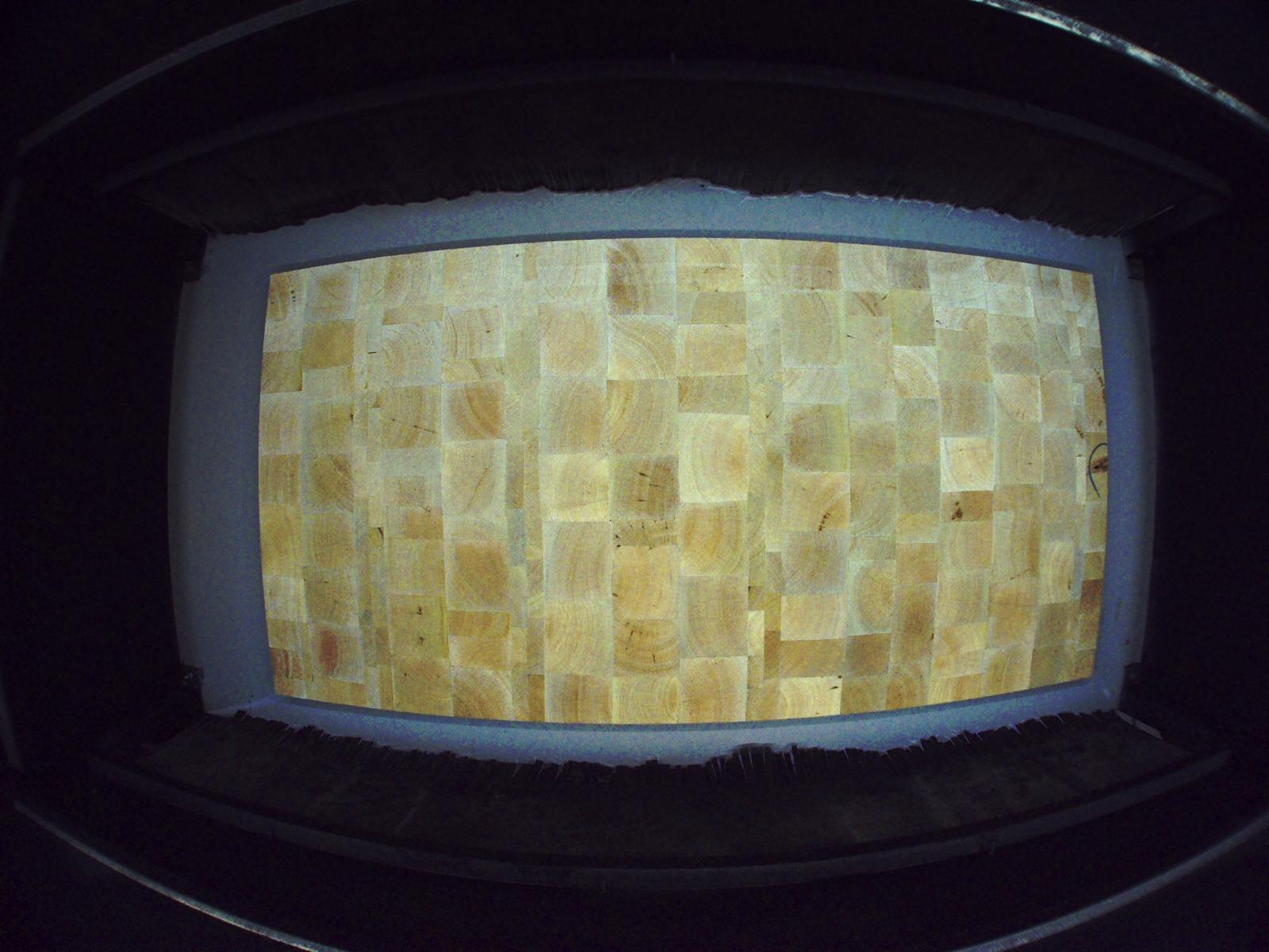nudillo: (1087, 453, 1109, 479)
